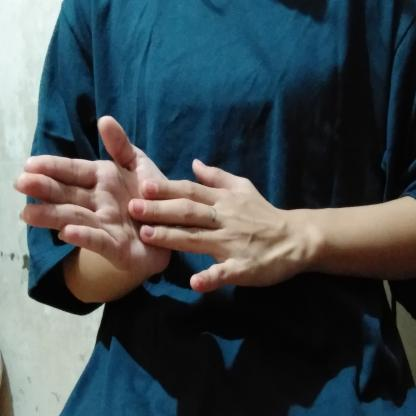mother: (11, 111, 416, 302)
